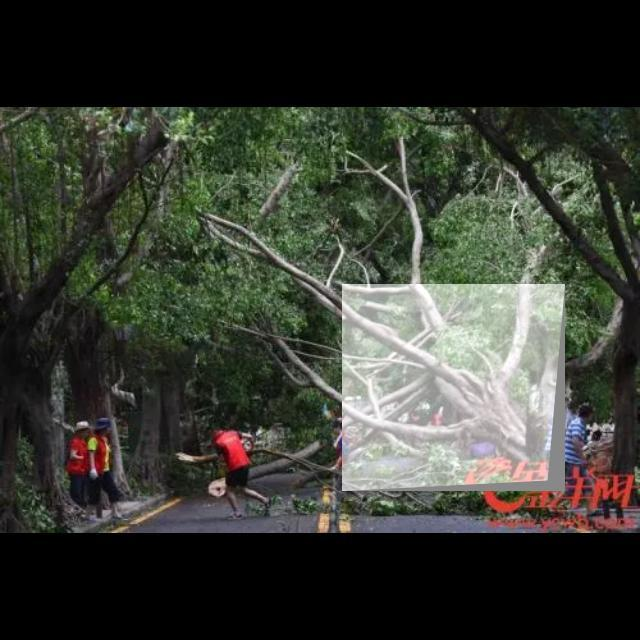fallen_tree: (342, 284, 566, 492)
